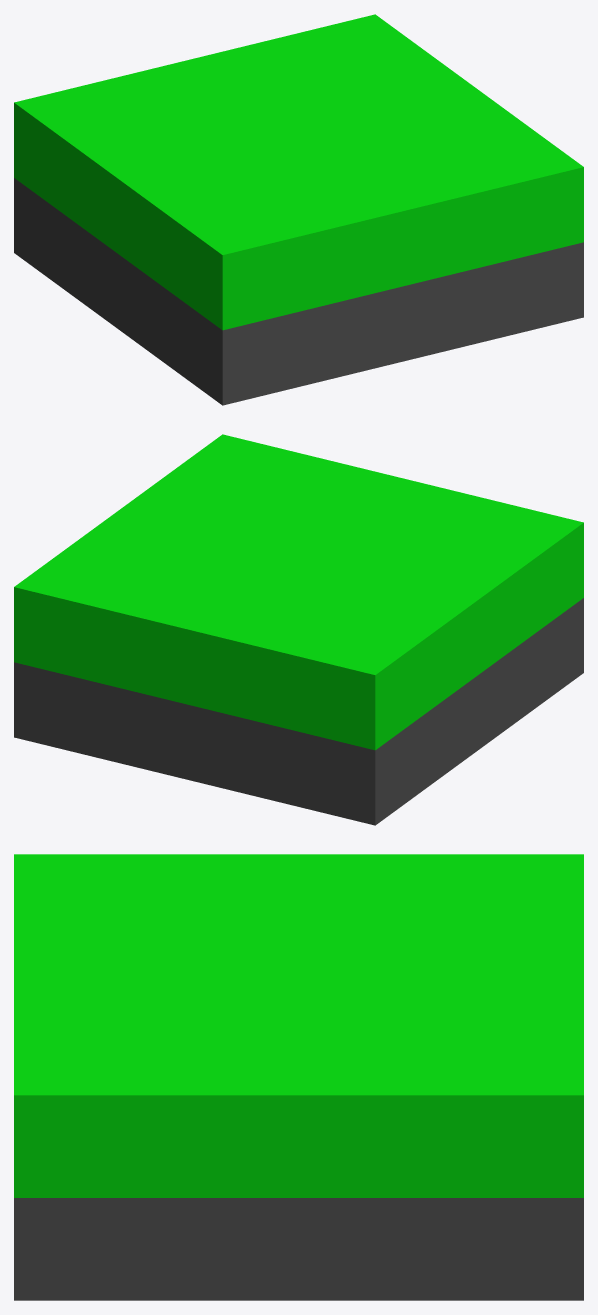
The model's file is Biome_Grass_HD.glb.
3 renders of one model, top to bottom at view 1: azimuth 30°, elevation 25°; view 2: azimuth 150°, elevation 25°; view 3: azimuth 270°, elevation 25°, orthographic. The views are drawn at different scales.
Visible parts, largest first — view 1: Cube; view 2: Cube; view 3: Cube.
Boxes of the visible parts, <box> form: Cube: <box>14,14,583,405</box>; Cube: <box>14,434,583,825</box>; Cube: <box>14,854,583,1300</box>.
Bounding box in the file's own units: 2.58 × 1.03 × 2.58.
